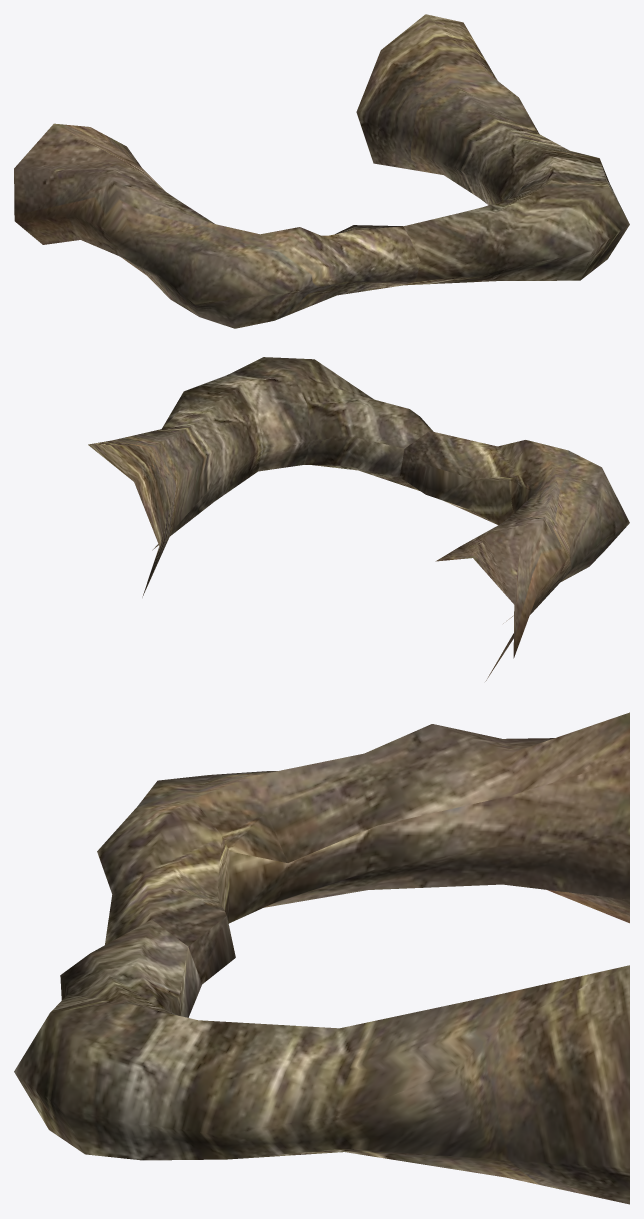
3 renders of one model, top to bottom at view 1: azimuth 30°, elevation 25°; view 2: azimuth 150°, elevation 25°; view 3: azimuth 270°, elevation 25°, orthographic. The views are drawn at different scales.
Parts seen in each view (by area): view 1: model_Object26; view 2: model_Object26; view 3: model_Object26.
Boxes of the visible parts, box(x1,y1,x2,y2) form: model_Object26: box(14, 14, 629, 328); model_Object26: box(88, 357, 629, 681); model_Object26: box(14, 712, 629, 1204).
Bounding box in the file's own units: 4.4 × 1.23 × 3.13.
1 material, 1 textured.
